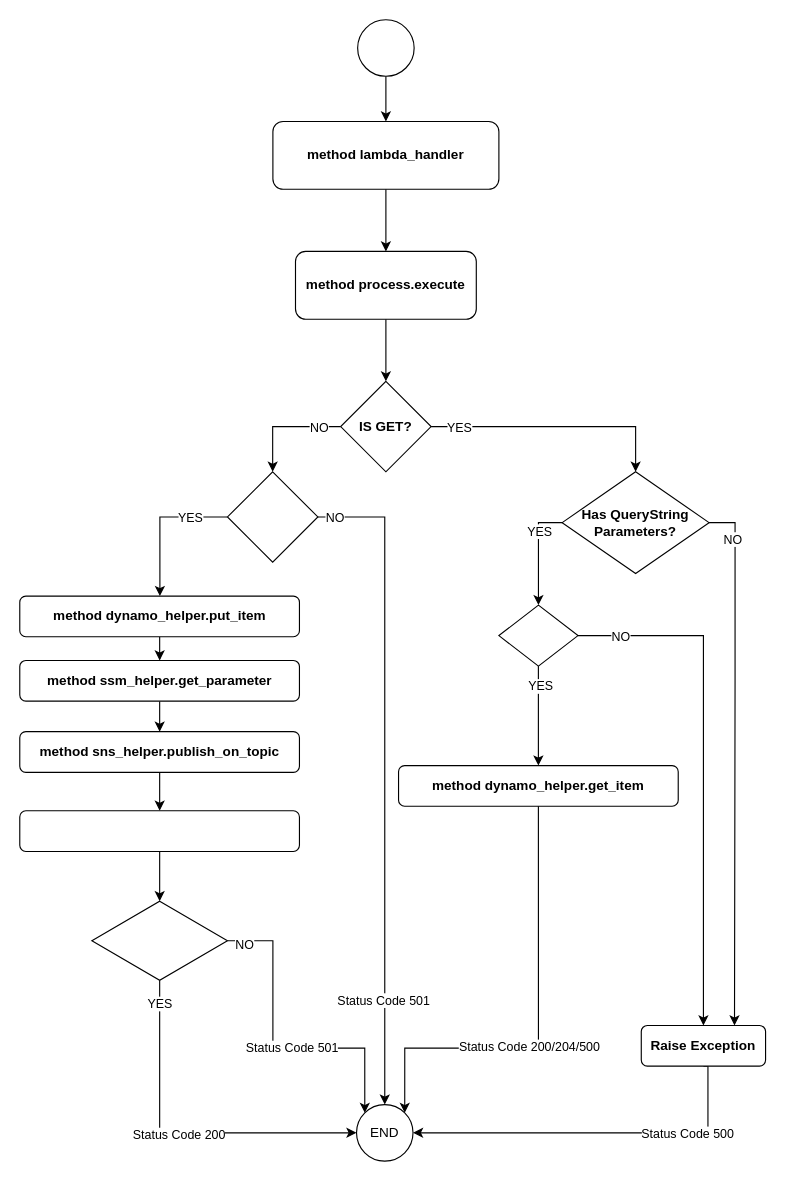
The diagram is 785 pixels wide and 1181 high, and some of its shapes have lost their labels. Here are the shapes that lost their labels. From the top down, the centre of each, then its label:
[385,47]: START
[272,516]: IS POST?
[538,635]: Is valid?
[159,830]: method handle_responses
[159,940]: all responses are right?
